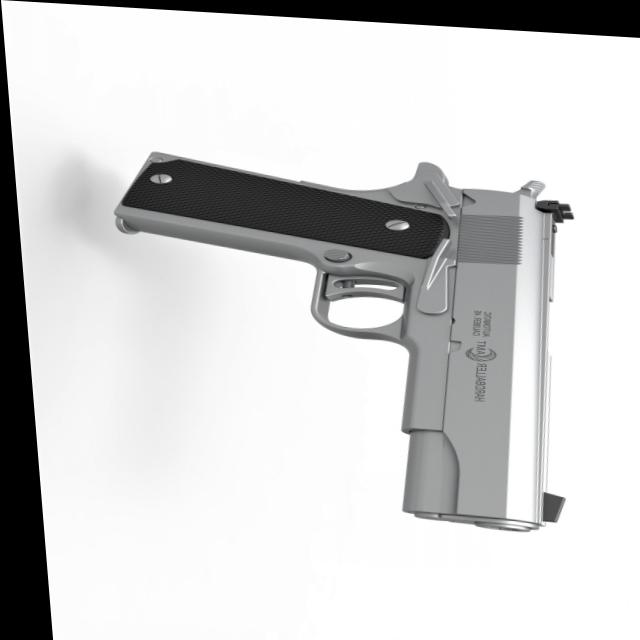handgun: (104, 148, 558, 528)
